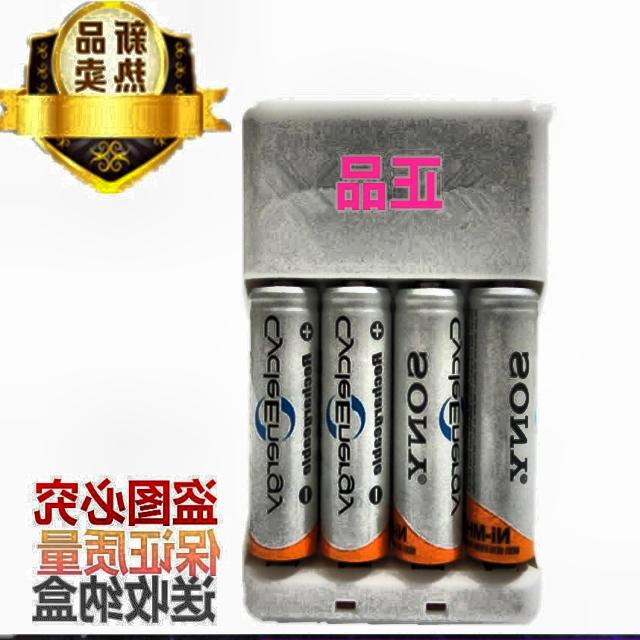Non-Valuable Waste - Batteries: (465, 288, 539, 565), (394, 288, 465, 564), (248, 286, 319, 561), (320, 286, 391, 561)
